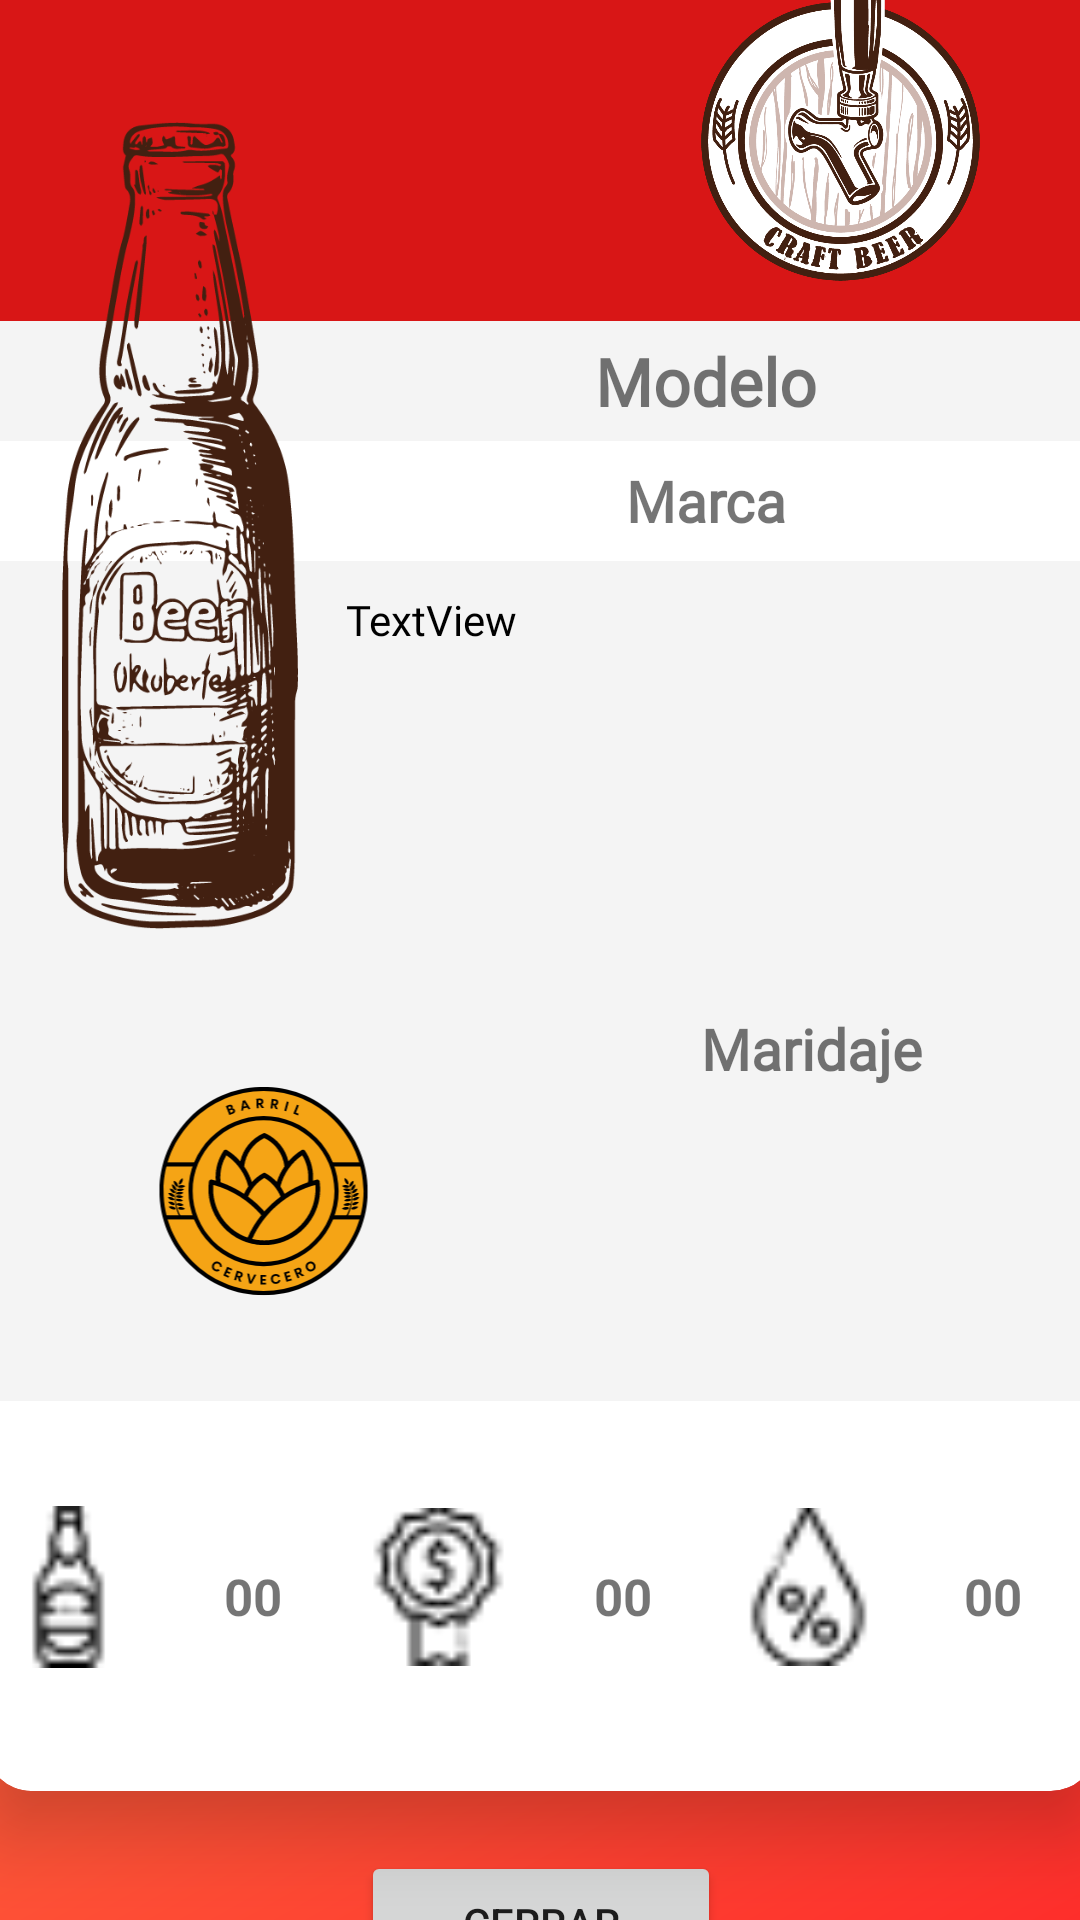

Point at icon controls on the screen. Image size 1080px×1920px, points as point (x, y).
cerveza: point (68, 1587)
porcentaje: point (808, 1587)
precio: point (438, 1587)
